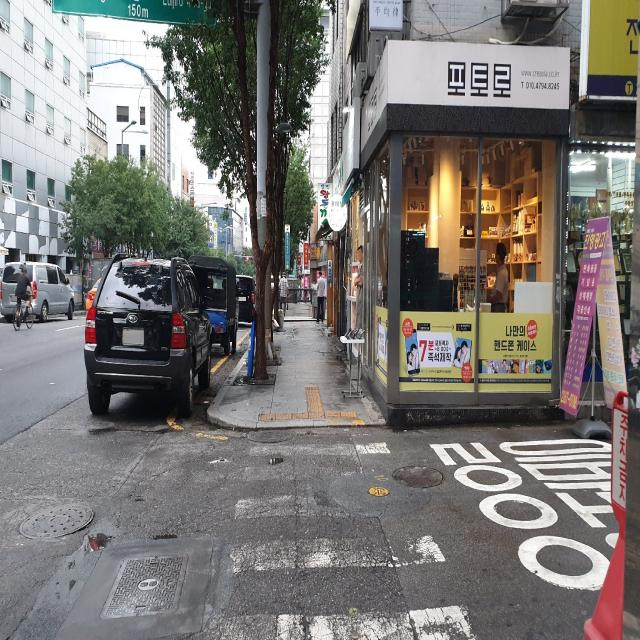횡단보도: (214, 440, 479, 640)
